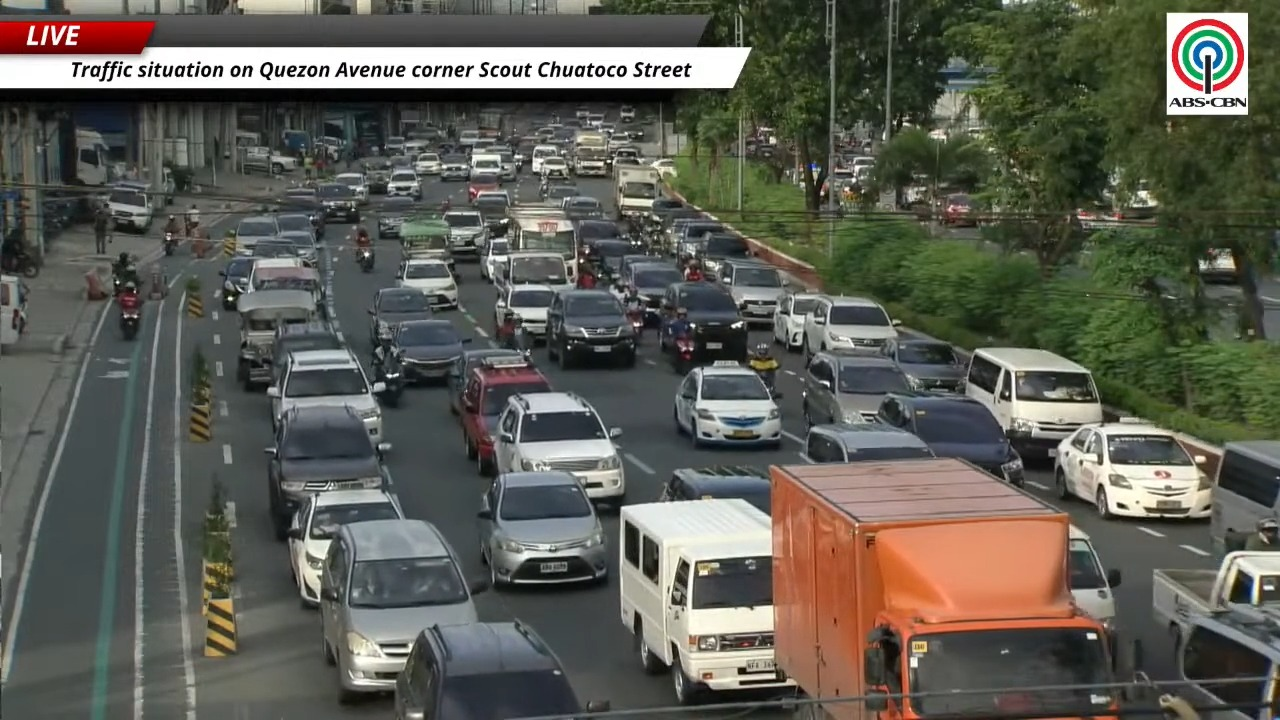bus: (508, 206, 579, 280)
car: (319, 519, 486, 704), (394, 620, 608, 719), (266, 404, 389, 540), (494, 392, 625, 509), (1054, 422, 1212, 519), (477, 471, 607, 588), (876, 390, 1024, 486), (287, 489, 404, 607), (267, 348, 384, 443), (459, 354, 550, 475), (674, 361, 782, 447), (800, 352, 910, 426), (659, 281, 747, 361), (546, 290, 636, 368), (803, 295, 899, 355), (658, 465, 770, 513), (804, 423, 934, 463), (446, 347, 522, 414), (392, 319, 471, 381), (881, 338, 966, 392), (716, 258, 784, 323), (271, 321, 343, 382), (622, 258, 683, 321), (368, 287, 432, 345), (696, 228, 763, 280), (494, 284, 555, 340), (397, 257, 457, 309), (106, 183, 161, 233), (773, 292, 818, 351), (673, 217, 733, 260), (280, 187, 325, 237), (443, 209, 486, 258), (583, 238, 633, 279), (619, 250, 682, 279), (219, 257, 253, 310), (235, 215, 278, 256), (472, 192, 511, 237), (661, 206, 703, 247), (317, 184, 360, 222), (377, 196, 413, 237), (279, 230, 317, 267), (277, 208, 322, 238), (480, 237, 509, 282), (576, 218, 624, 244), (250, 235, 300, 259), (941, 194, 977, 226), (386, 168, 422, 199), (333, 173, 369, 204), (364, 158, 392, 194), (562, 195, 603, 219), (650, 197, 688, 221), (491, 147, 517, 181), (542, 183, 578, 207), (467, 174, 499, 201), (440, 154, 470, 180), (514, 137, 536, 170), (473, 188, 511, 206), (414, 152, 442, 175), (612, 144, 641, 166), (615, 120, 645, 141), (540, 156, 570, 177), (650, 159, 677, 177), (384, 136, 406, 153), (612, 155, 639, 166), (575, 106, 590, 121)
motorcycle: (375, 351, 403, 406), (3, 247, 39, 278), (502, 327, 532, 359), (672, 334, 694, 374), (626, 308, 646, 342), (119, 309, 140, 340), (755, 369, 778, 396), (113, 272, 137, 295), (357, 247, 373, 272), (163, 231, 176, 255)
truck: (770, 458, 1119, 719), (1153, 551, 1279, 643), (613, 166, 659, 219), (75, 127, 113, 185), (239, 146, 298, 174), (573, 131, 609, 176)
